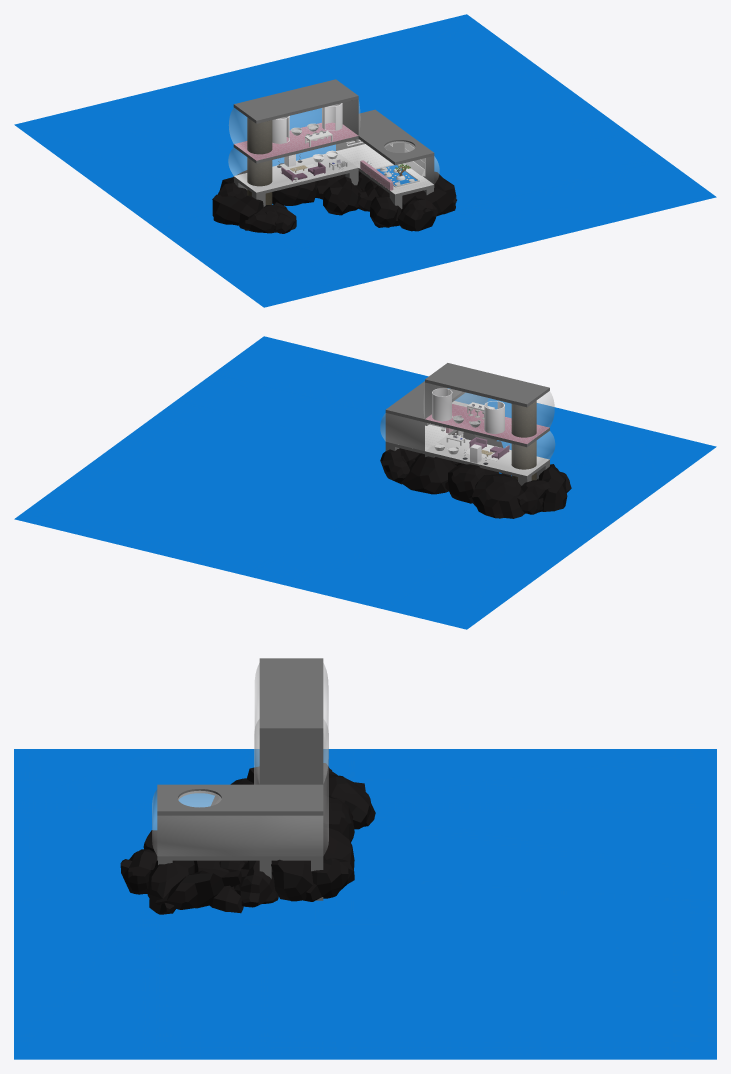
File: office_studiocheck-transformed.glb
3 views of the same model, one above another, from view 1: azimuth 30°, elevation 25°; view 2: azimuth 150°, elevation 25°; view 3: azimuth 270°, elevation 25° (orthographic). The views are drawn at different scales.
Parts seen in each view (by area): view 1: Cube.002, Cube.001, Stairs Cover, Closet Item Clothing Racks; view 2: Cube.002, Cube.001, Stairs Cover, Closet Item Clothing Racks; view 3: Cube.002, Cube.001.
Part boxes in pixels (x1,y1,x2,y2): Cube.002: [14, 14, 716, 307]; Cube.001: [228, 99, 439, 193]; Stairs Cover: [247, 117, 272, 204]; Closet Item Clothing Racks: [272, 103, 342, 143]; Cube.002: [14, 336, 716, 629]; Cube.001: [380, 383, 554, 475]; Stairs Cover: [511, 400, 536, 480]; Closet Item Clothing Racks: [432, 388, 504, 433]; Cube.002: [14, 658, 716, 1059]; Cube.001: [152, 663, 328, 855].
Size of the model in its own units: 72.4 by 20.37 by 69.22.
Materials: 25 (25 with a texture image).
